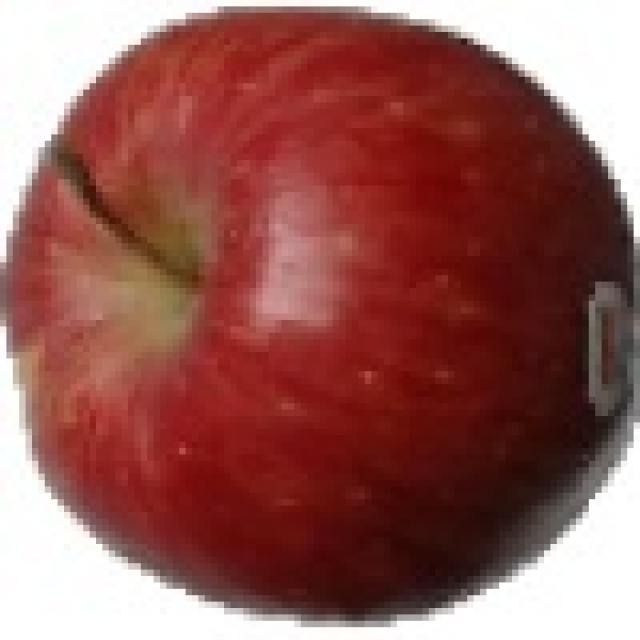apple: (10, 8, 634, 617)
